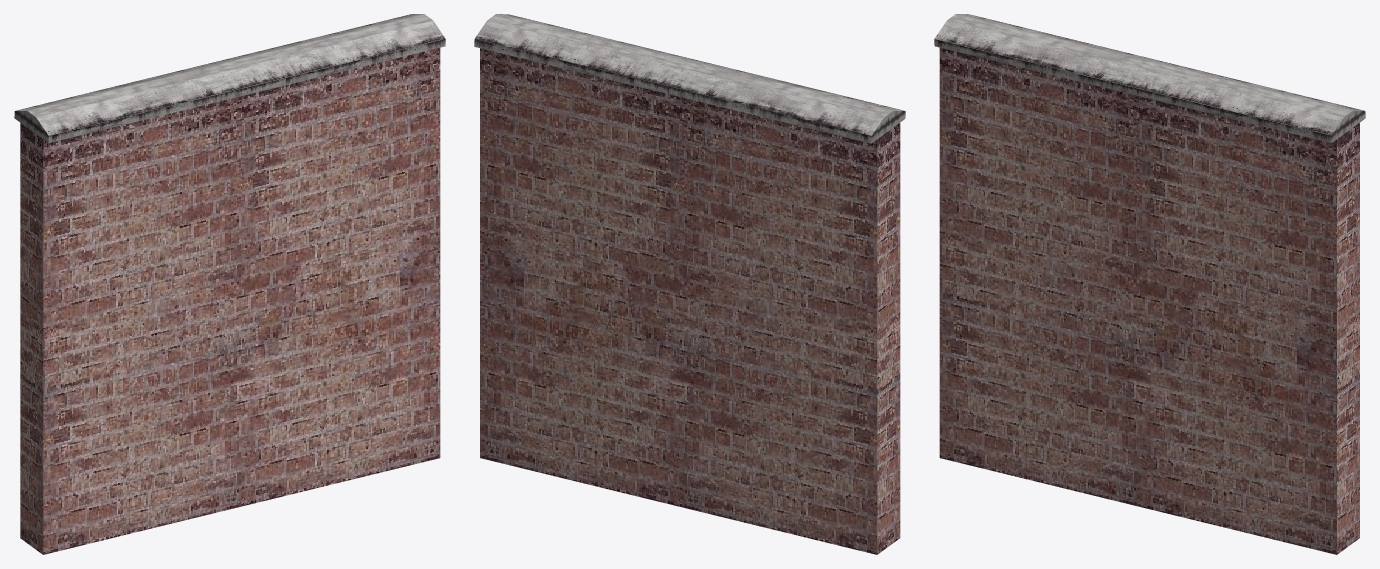
The model's file is lf_brick_wall_small.glb.
3 renders of one model, left to right at view 1: azimuth 30°, elevation 25°; view 2: azimuth 150°, elevation 25°; view 3: azimuth 330°, elevation 25°, orthographic.
Parts seen in each view (by area): view 1: brick_wall_small; view 2: brick_wall_small; view 3: brick_wall_small.
Boxes of the visible parts, <box> form: brick_wall_small: <box>14,14,445,554</box>; brick_wall_small: <box>474,14,905,554</box>; brick_wall_small: <box>934,14,1365,554</box>.
Bounding box in the file's own units: 2 × 2.08 × 0.2995.
2 materials, 2 textured.
